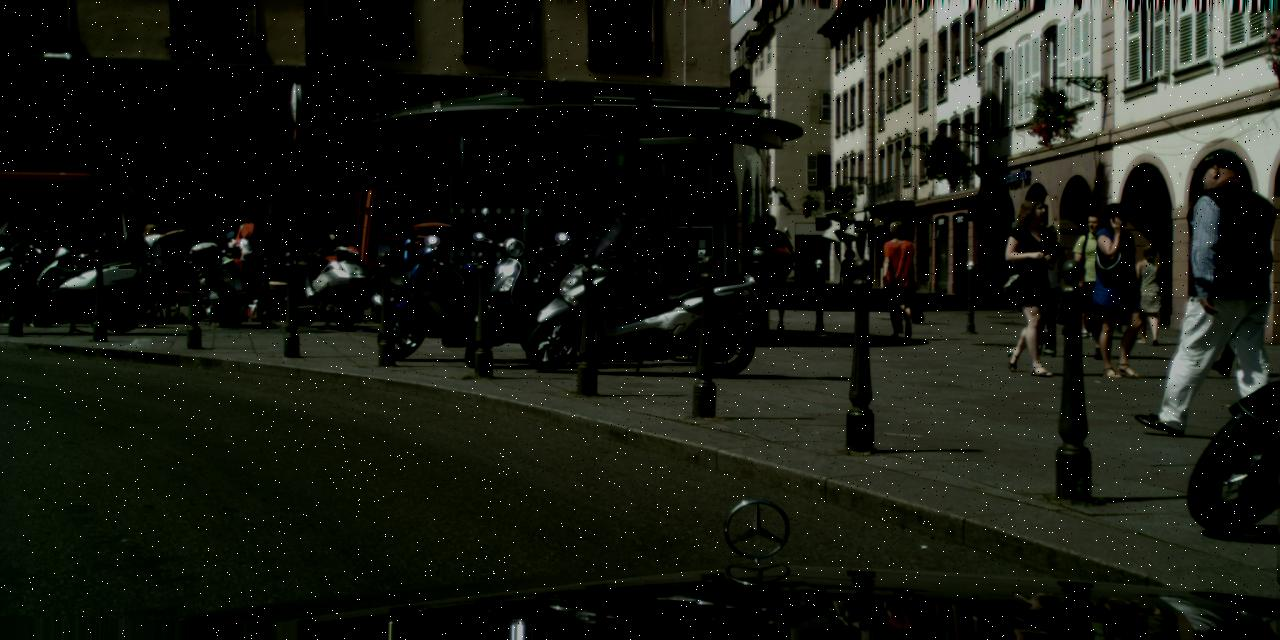ped: (1160, 149, 1278, 433), (1082, 201, 1154, 377), (992, 197, 1063, 372), (1213, 217, 1278, 376), (1068, 212, 1128, 358), (1020, 224, 1074, 356), (874, 219, 922, 339), (746, 214, 794, 332), (1128, 242, 1170, 344), (1067, 238, 1107, 336), (226, 221, 265, 318), (132, 223, 170, 319), (836, 249, 860, 309), (790, 241, 814, 300), (814, 253, 828, 288)
